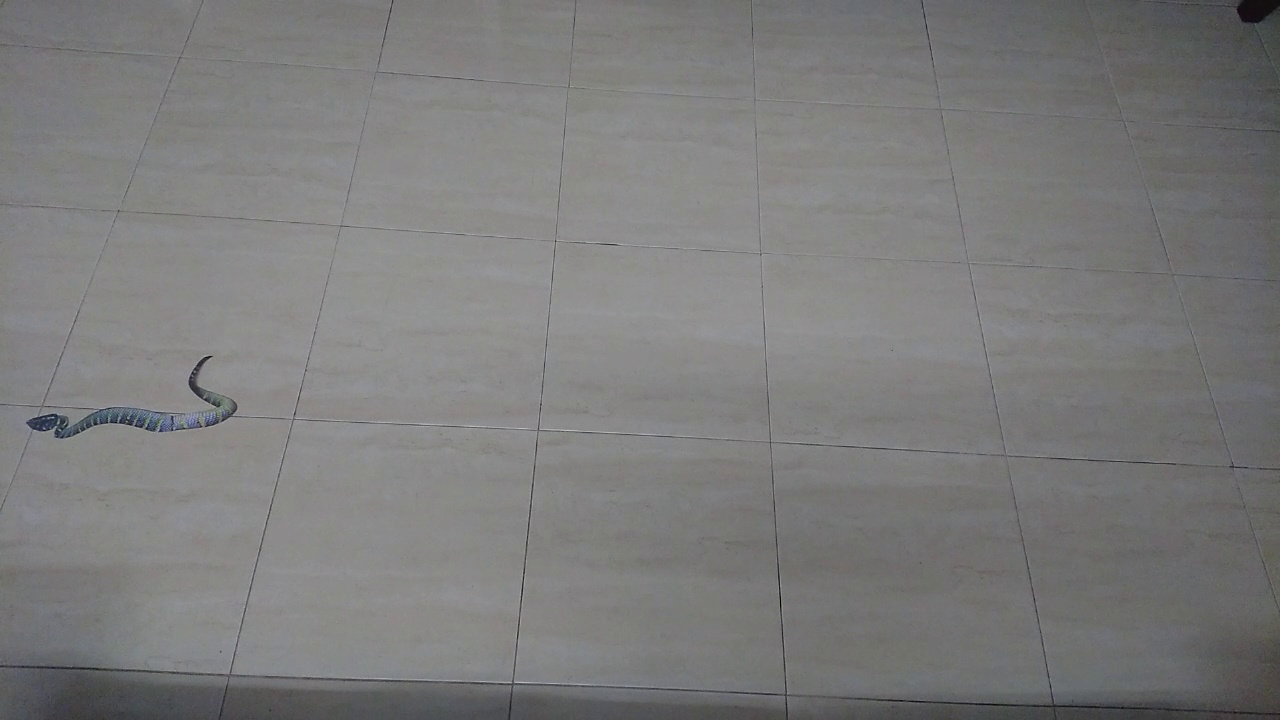snake: (14, 329, 257, 454)
